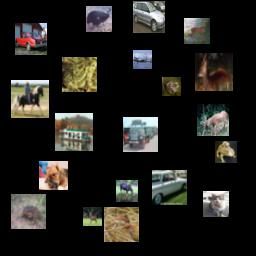airplane: (133, 50, 152, 69)
automobile: (152, 170, 187, 205), (133, 1, 165, 33), (15, 23, 47, 55)
bird: (86, 6, 112, 32)
cat: (203, 191, 229, 217)
deer: (195, 53, 233, 91), (197, 104, 229, 136), (184, 18, 210, 44), (116, 180, 138, 202), (83, 207, 102, 226)
dog: (39, 161, 68, 190)
frog: (104, 207, 139, 242), (62, 57, 97, 92), (11, 194, 46, 229), (215, 141, 237, 163), (162, 77, 181, 96)
ship: (55, 113, 93, 151)
truck: (123, 117, 158, 152)
